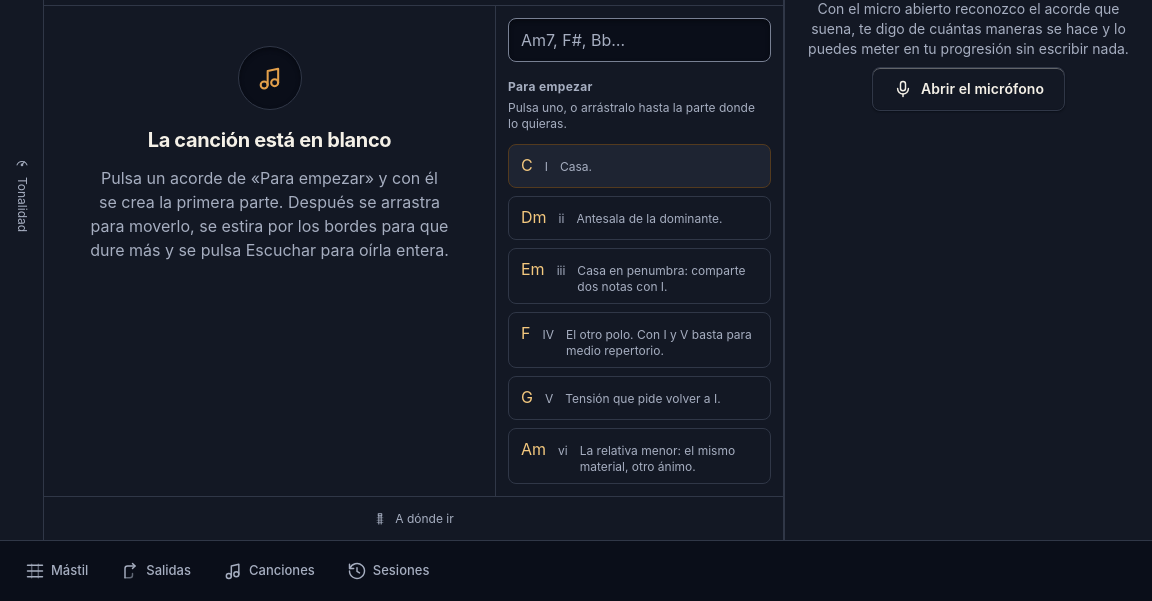
Scenario: Las areas del banco › a donde ir viene plegada, y su tira la devuelve
(page scrolled)
Step 1. Click the button with aria-label "Desplegar A dónde ir" → (414, 518), box [44,496,783,540]
(page scrolled)
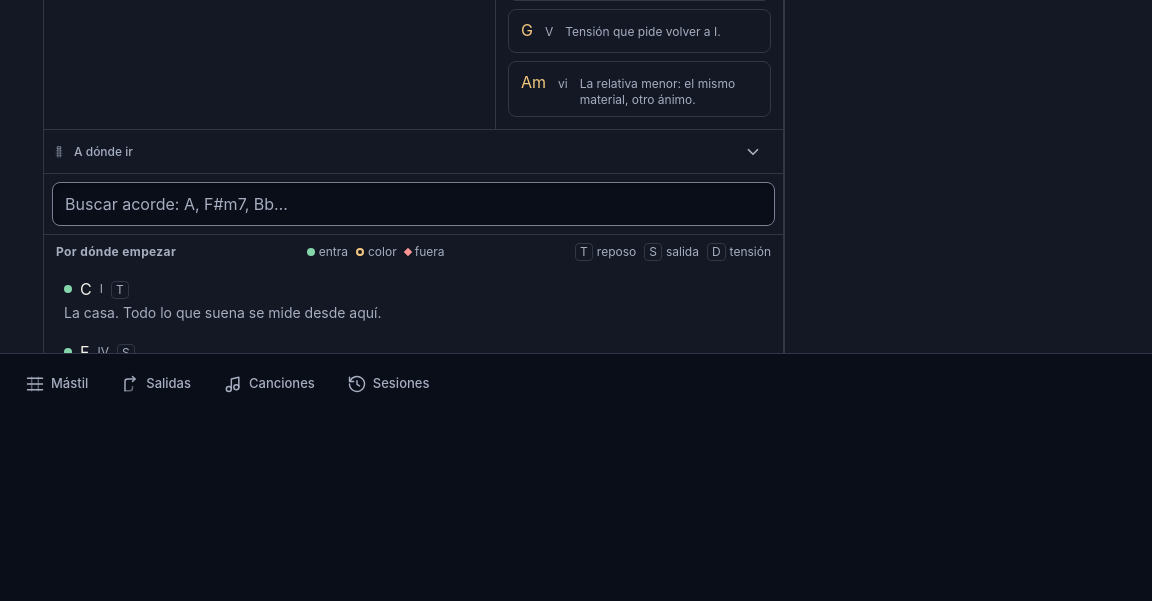
Expected: the element labelled "A dónde ir" is shown, [44,129,783,353]
